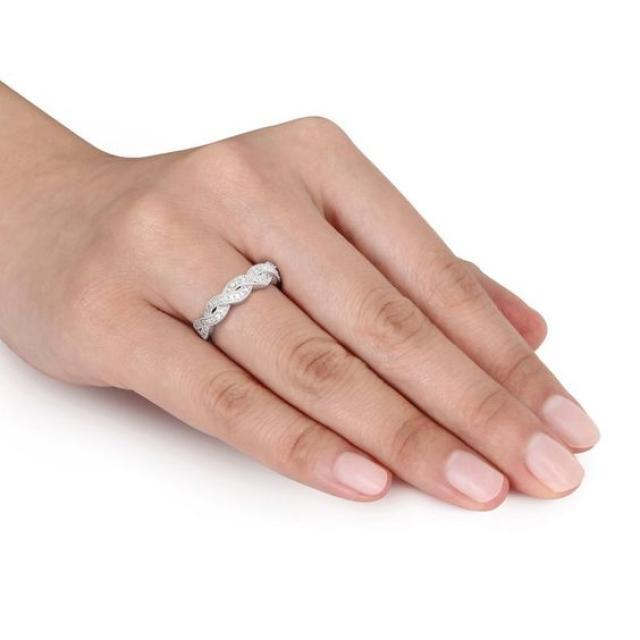Fingernail: (526, 434, 585, 492), (543, 396, 602, 449), (447, 450, 503, 503), (335, 452, 389, 496)
